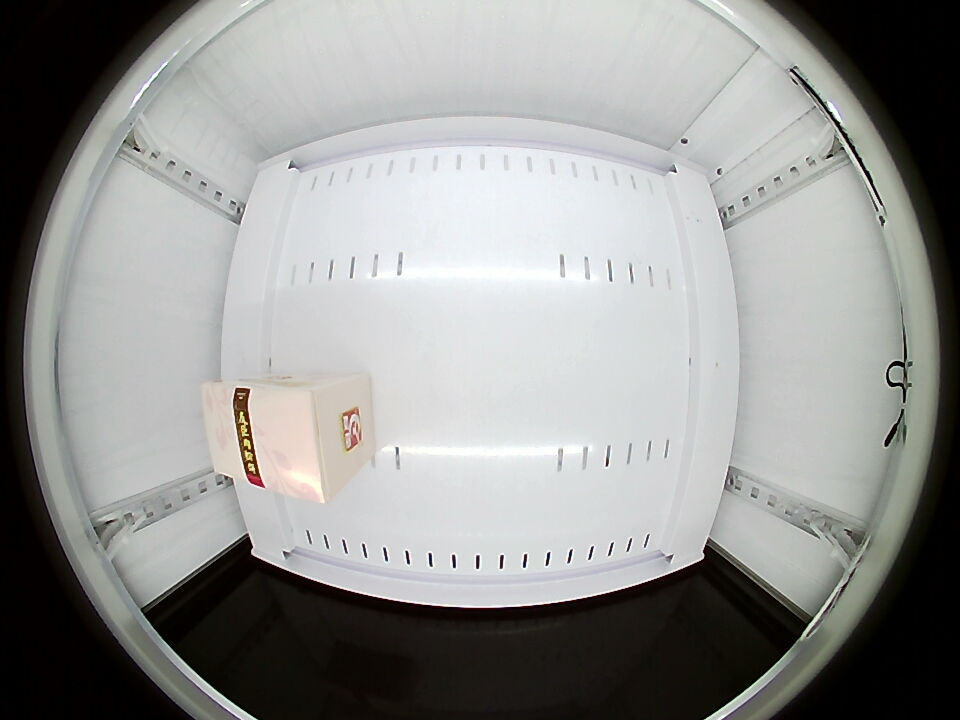rousongbing: (205, 376, 360, 503)
